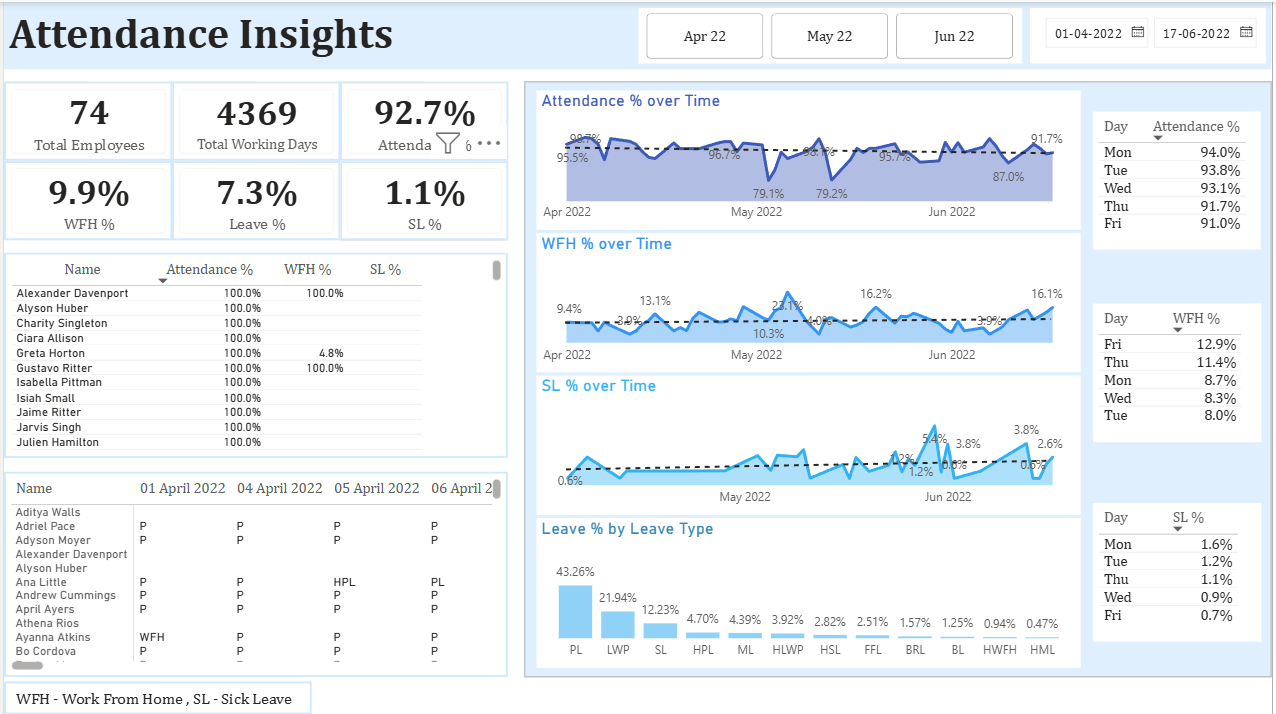

Layout of this report page (visuals, bound fields, positions):
{"tool":"powerbi","page":{"name":"Page 1","canvas":[1280,720],"ordinal":0},"visuals":[{"type":"textbox","box":[525.4,80.3,754.1,601.1],"z":0},{"type":"textbox","box":[0,0,1279.4,68],"z":1000},{"type":"cardVisual","fields":{"Data":["Measure Table.Total Working Days"]},"box":[169.6,80.3,170,80.3],"z":2000},{"type":"cardVisual","fields":{"Data":["Measure Table.Presence %"]},"box":[339.2,80.3,170,80],"z":3000},{"type":"advancedSlicerVisual","fields":{"Values":["Final Data.Month"]},"box":[640.5,6.1,387.6,56],"z":4000},{"type":"cardVisual","fields":{"Data":["Measure Table.WFH %"]},"box":[0,160.5,170,80],"z":5000},{"type":"cardVisual","fields":{"Data":["Measure Table.SL %"]},"box":[339.2,160.5,170,80],"z":6000},{"type":"tableEx","fields":{"Values":["Final Data.Name","Measure Table.Presence %","Measure Table.WFH %","Measure Table.SL %"]},"box":[0,252.9,508.8,207.4],"z":7000},{"type":"pivotTable","fields":{"Rows":["Final Data.Name"],"Values":["Min(Final Data.Value)"],"Columns":["Final Data.Date"]},"box":[0,473.9,508.8,207.4],"z":8000},{"type":"tableEx","fields":{"Values":["Final Data.Day","Measure Table.Presence %"]},"box":[1100,110,169.6,139.3],"z":9000},{"type":"tableEx","fields":{"Values":["Final Data.Day","Measure Table.SL %"]},"box":[1100,505,170,140],"z":10000},{"type":"tableEx","fields":{"Values":["Final Data.Day","Measure Table.WFH %"]},"box":[1100,305,170,140],"z":11000},{"type":"slicer","fields":{"Values":["Final Data.Date"]},"box":[1035.7,6.1,237.7,56],"z":12000},{"type":"cardVisual","fields":{"Data":["Count(Final Data.Employee Code)"]},"box":[0,80,170,80],"z":13000},{"type":"cardVisual","fields":{"Data":["Measure Table.Leave %"]},"box":[169.6,160.5,170,80],"z":14000},{"type":"textbox","box":[0,685.9,310.4,33],"z":15000},{"type":"areaChart","title":"Attendance % over Time","fields":{"Y":["Measure Table.Presence %"],"Category":["Final Data.Date"]},"box":[537.5,89.3,549.7,140.8],"z":16000},{"type":"areaChart","title":"WFH % over Time","fields":{"Category":["Final Data.Date"],"Y":["Measure Table.WFH %"]},"box":[537.5,233.2,549.7,140.8],"z":17000},{"type":"areaChart","title":"SL % over Time","fields":{"Y":["Measure Table.SL %"],"Category":["Final Data.Date"]},"box":[537.5,377,549.7,140.8],"z":18000},{"type":"columnChart","title":"Leave % by Leave Type","fields":{"Category":["Final Data.Value"],"Y":["Measure Table.Leave %"]},"box":[537.5,520.9,549.7,151.4],"z":19000}]}

Visuals, with their boxes in screenshot pixels (x1, y1, x2, y2), scaled from the page's 1280x720 canvas onto the 1276x714 screenshot:
textbox: BBox(524, 80, 1275, 676)
textbox: BBox(0, 0, 1275, 67)
cardVisual - Measure Table.Total Working Days: BBox(169, 80, 339, 159)
cardVisual - Measure Table.Presence %: BBox(338, 80, 508, 159)
advancedSlicerVisual - Final Data.Month: BBox(638, 6, 1025, 62)
cardVisual - Measure Table.WFH %: BBox(0, 159, 169, 238)
cardVisual - Measure Table.SL %: BBox(338, 159, 508, 238)
tableEx - Final Data.Name x Measure Table.Presence %: BBox(0, 251, 507, 456)
pivotTable - Final Data.Name x Min(Final Data.Value): BBox(0, 470, 507, 676)
tableEx - Final Data.Day x Measure Table.Presence %: BBox(1097, 109, 1266, 247)
tableEx - Final Data.Day x Measure Table.SL %: BBox(1097, 501, 1266, 640)
tableEx - Final Data.Day x Measure Table.WFH %: BBox(1097, 302, 1266, 441)
slicer - Final Data.Date: BBox(1032, 6, 1269, 62)
cardVisual - Count(Final Data.Employee Code): BBox(0, 79, 169, 159)
cardVisual - Measure Table.Leave %: BBox(169, 159, 339, 238)
textbox: BBox(0, 680, 309, 713)
"Attendance % over Time" areaChart: BBox(536, 89, 1084, 228)
"WFH % over Time" areaChart: BBox(536, 231, 1084, 371)
"SL % over Time" areaChart: BBox(536, 374, 1084, 513)
"Leave % by Leave Type" columnChart: BBox(536, 517, 1084, 667)
